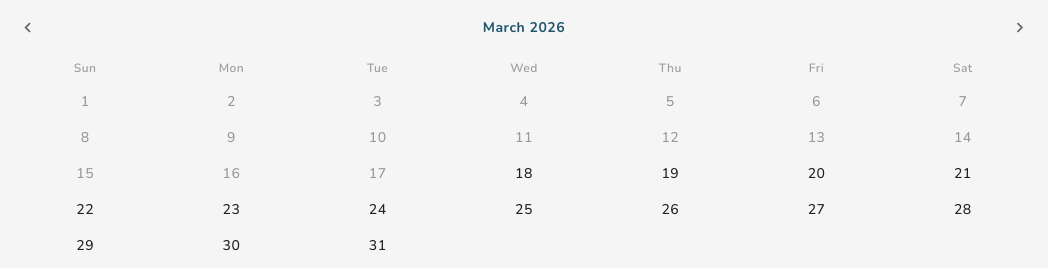
Test: MultiDatePicker › navigates to previous month
Click the button named "Previous month" at (28, 28), box [12, 12, 44, 44]
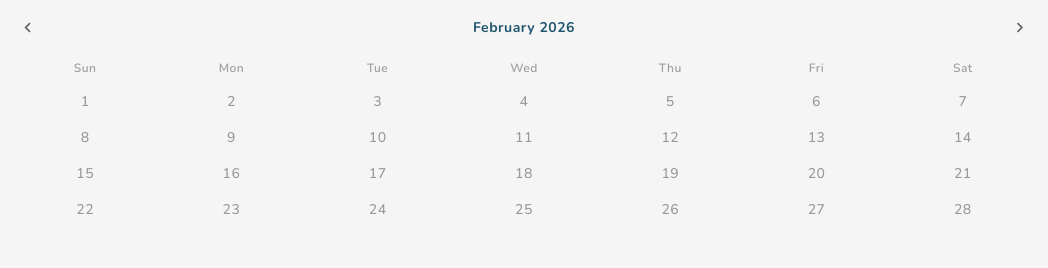
Now the text "February 2026" is shown, box [473, 18, 575, 38]
